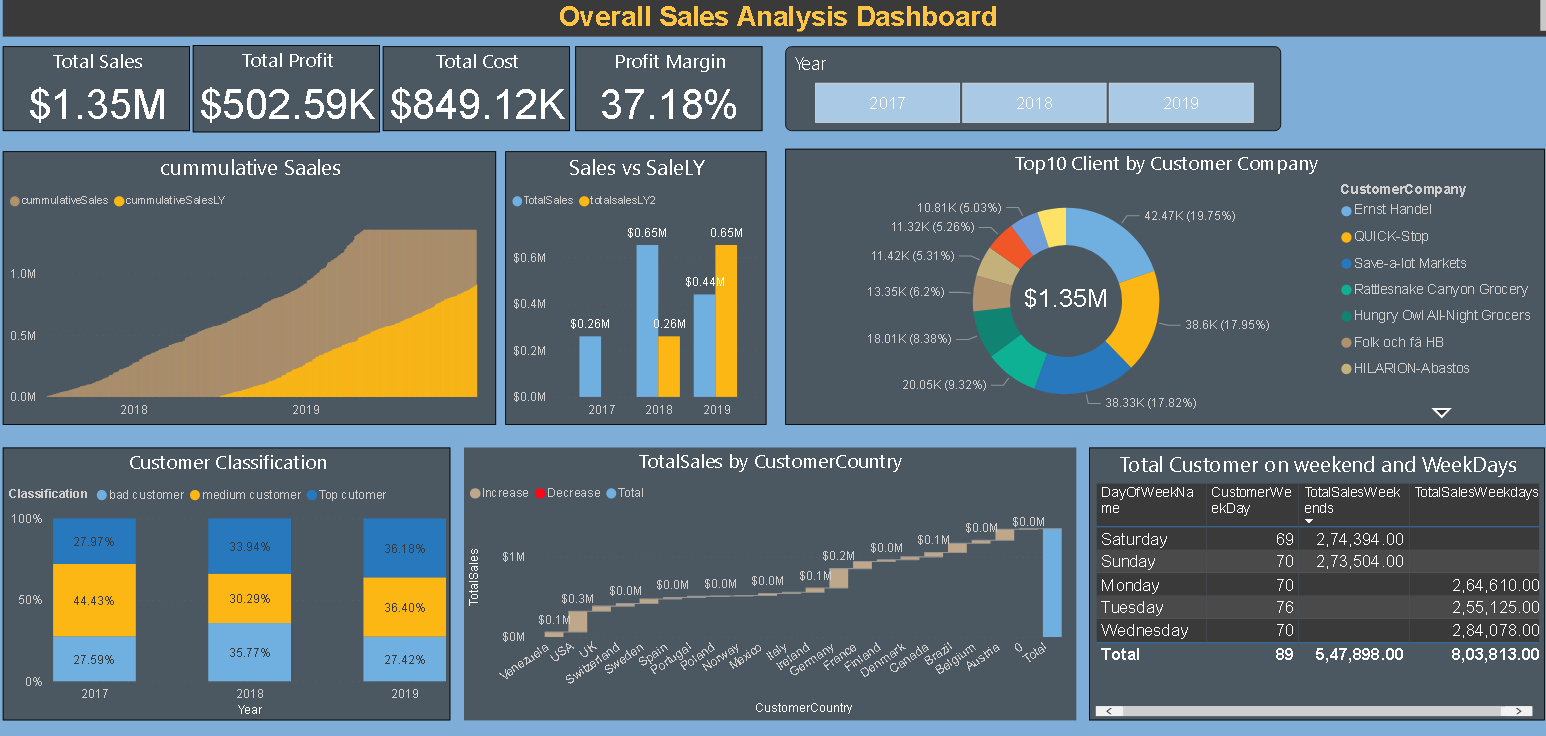

What the dashboard file says about the page in this screenshot:
{"tool":"powerbi","page":{"name":"Page 3","canvas":[1500,720],"ordinal":6},"visuals":[{"type":"hundredPercentStackedColumnChart","title":"Customer Classification","fields":{"Category":["Dates Table.Date.Variation.Date Hierarchy.Year","Dates Table.Date.Variation.Date Hierarchy.Quarter","Dates Table.Date.Variation.Date Hierarchy.Month","Dates Table.Date.Variation.Date Hierarchy.Day"],"Y":["customerclassificationtable.CalssifyCustomer"],"Series":["customerclassificationtable.Classification"]},"box":[9,435.5,430.3,262],"z":0},{"type":"tableEx","title":"Total Customer on weekend and WeekDays","fields":{"Values":["Dates Table.DayOfWeekName","measure table.CustomerWeekDay","measure table.TotalSalesWeekends","measure table.TotalSalesWeekdays"]},"box":[1053.4,435.5,438.7,262],"z":1000},{"type":"donutChart","title":"Top10 Client by Customer Company","fields":{"Category":["Sales.CustomerCompany"],"Y":["measure table.Top10Client"]},"box":[761.4,147.8,730.8,265.6],"z":2000},{"type":"clusteredColumnChart","title":"cummulative Saales","fields":{"Y":["measure table.cummulativeSalesAmount","measure table.cummulativeSalesLY"],"Category":["Dates Table.Date"]},"box":[9,150.2,474.8,263.2],"z":3000},{"type":"slicer","title":"Year","fields":{"Values":["Dates Table.Date.Variation.Date Hierarchy.Year"]},"box":[760.8,49.3,477.2,81.7],"z":4000},{"type":"card","title":"Total Sales","fields":{"Values":["measure table.TotalSales"]},"box":[8.4,49.1,180,81.7],"z":5000},{"type":"card","title":"Total Cost","fields":{"Values":["measure table.TotalCost"]},"box":[373.8,49.1,180.3,81.7],"z":6000},{"type":"card","title":"Total Profit","fields":{"Values":["measure table.totalProfit"]},"box":[191.1,48.1,180.3,84.1],"z":7000},{"type":"card","title":"Profit Margin","fields":{"Values":["measure table.ProfitMargin"]},"box":[558.9,49.3,180.3,81.7],"z":8000},{"type":"clusteredColumnChart","title":"Sales vs SaleLY","fields":{"Y":["measure table.TotalSales","measure table.totalsalesLY2"],"Category":["Dates Table.Date.Variation.Date Hierarchy.Year","Dates Table.Date.Variation.Date Hierarchy.Quarter","Dates Table.Date.Variation.Date Hierarchy.Month","Dates Table.Date.Variation.Date Hierarchy.Day"]},"box":[492.1,150.2,251.2,263.2],"z":9000},{"type":"card","title":"Total Sales","fields":{"Values":["measure table.TotalSales"]},"box":[978.7,227.3,105.3,129.9],"z":10000},{"type":"waterfallChart","fields":{"Category":["Sales.CustomerCountry"],"Y":["measure table.TotalSales"]},"box":[452.5,435.5,588.9,262],"z":11000},{"type":"textbox","box":[9,0,1491.5,40.3],"z":12000}]}

Visuals, with their boxes in screenshot pixels (x1, y1, x2, y2), scaled from the page's 1500x720 canvas onto the 1546x736 screenshot:
"Customer Classification" hundredPercentStackedColumnChart: <region>9, 445, 453, 713</region>
"Total Customer on weekend and WeekDays" tableEx: <region>1086, 445, 1538, 713</region>
"Top10 Client by Customer Company" donutChart: <region>785, 151, 1538, 423</region>
"cummulative Saales" clusteredColumnChart: <region>9, 154, 499, 423</region>
"Year" slicer: <region>784, 50, 1276, 134</region>
"Total Sales" card: <region>9, 50, 194, 134</region>
"Total Cost" card: <region>385, 50, 571, 134</region>
"Total Profit" card: <region>197, 49, 383, 135</region>
"Profit Margin" card: <region>576, 50, 762, 134</region>
"Sales vs SaleLY" clusteredColumnChart: <region>507, 154, 766, 423</region>
"Total Sales" card: <region>1009, 232, 1117, 365</region>
waterfallChart - Sales.CustomerCountry x measure table.TotalSales: <region>466, 445, 1073, 713</region>
textbox: <region>9, 0, 1545, 41</region>
